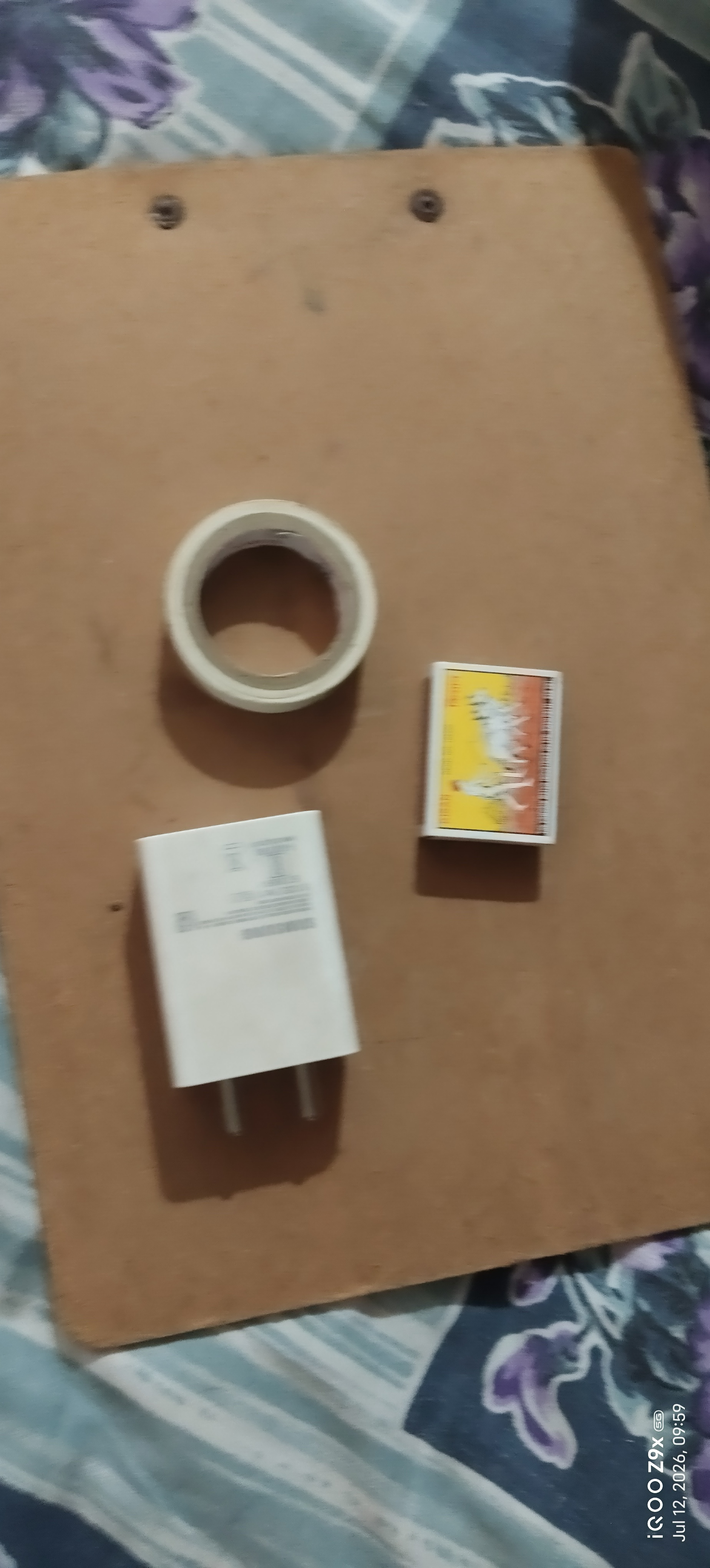charger: (124, 799, 374, 1151)
matchbox: (410, 643, 569, 874)
tape_roll: (156, 485, 385, 731)
